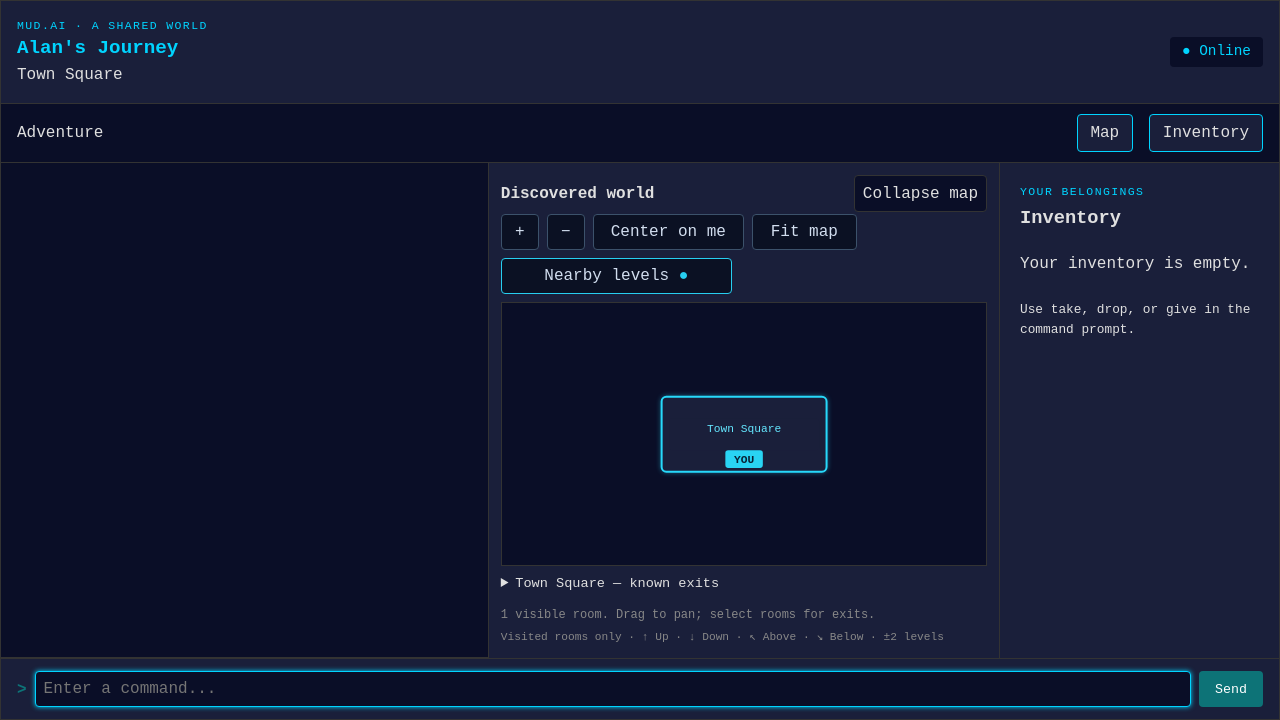
Test: Terminal › handles map commands locally, saves visibility, and ignores narration map data
Expected: the button "Collapse map" is shown, [854,175,987,212]
Expected: the element with test id "map-panel" does not show "Secret", [488,163,999,658]
In the field with test id "command-input": (613, 689) [35,671,1191,707], type "/map hide"
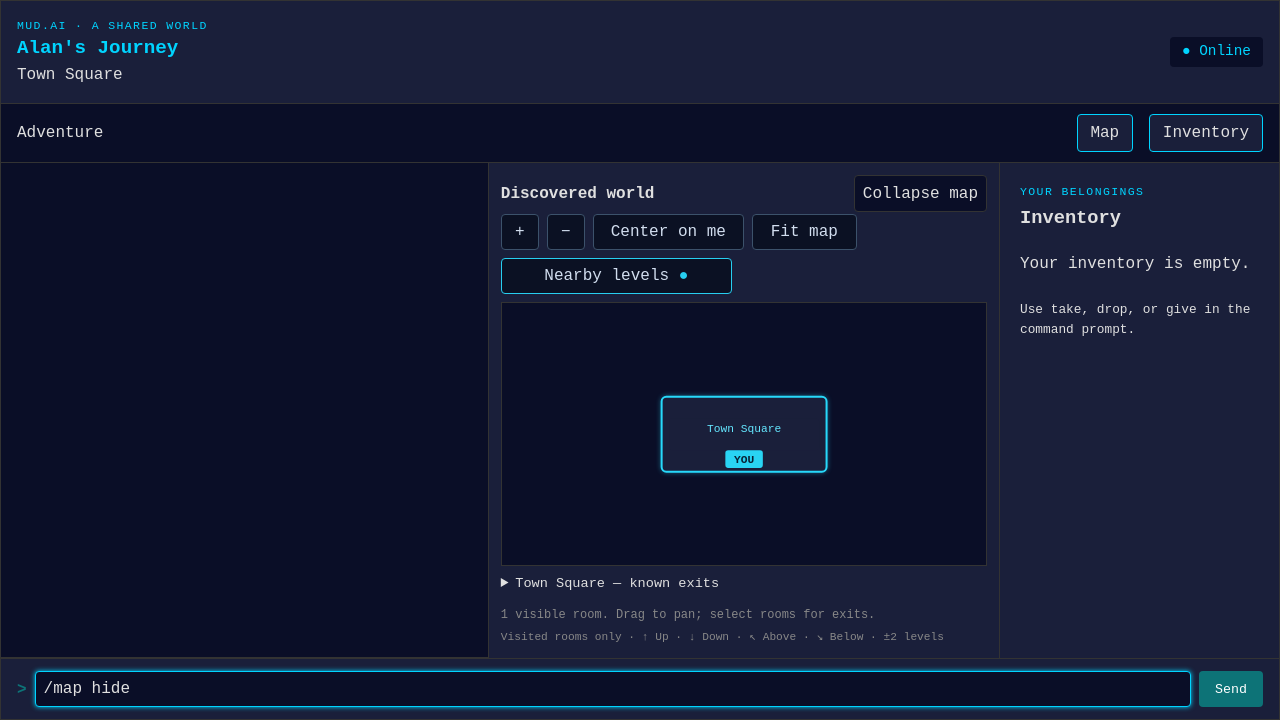
Submit the form with test id "command-input", box [1,658,1279,719]
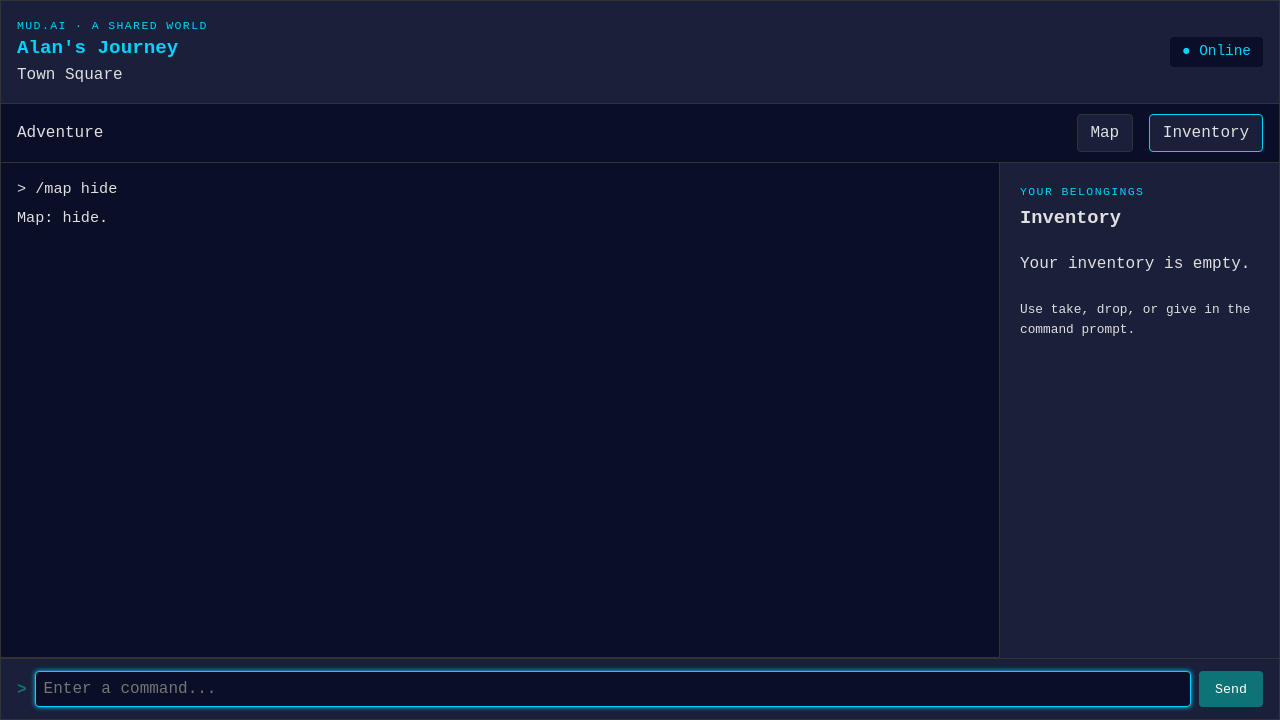
Expected: the element with test id "map-panel" is gone
In the field with test id "command-input": (613, 689) [35,671,1191,707], type "/map expand"
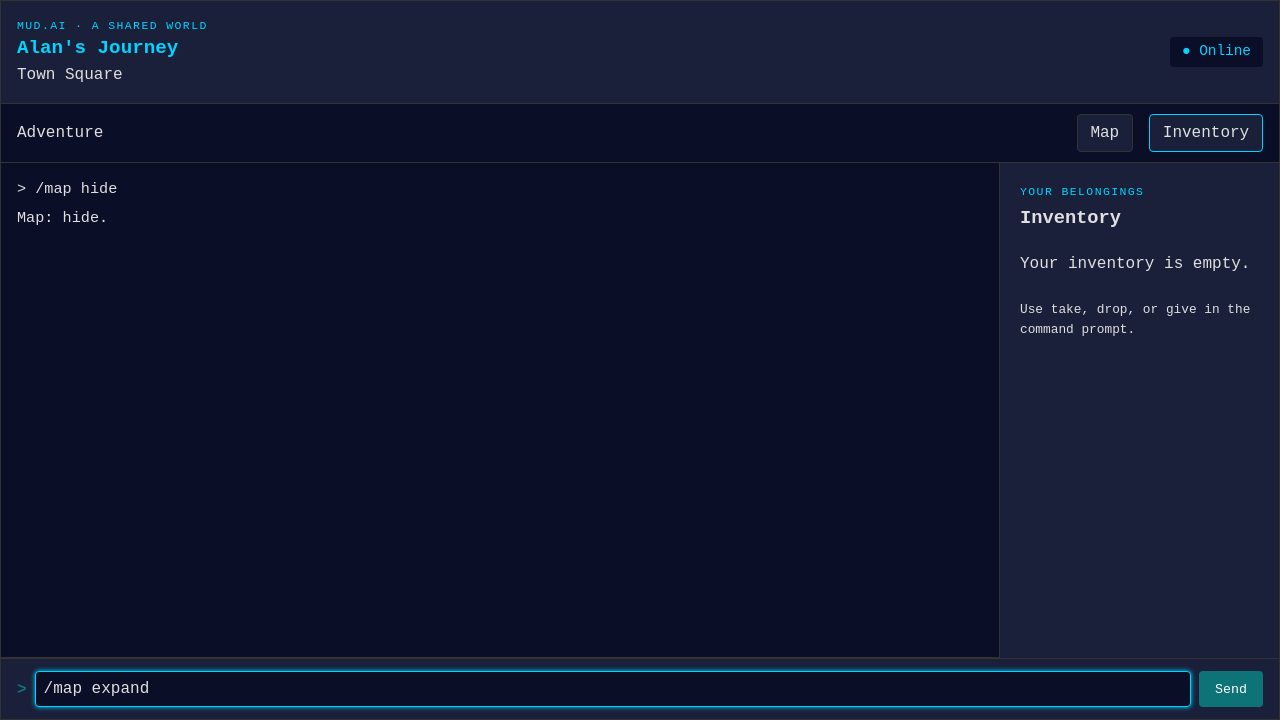
Submit the form with test id "command-input", box [1,658,1279,719]
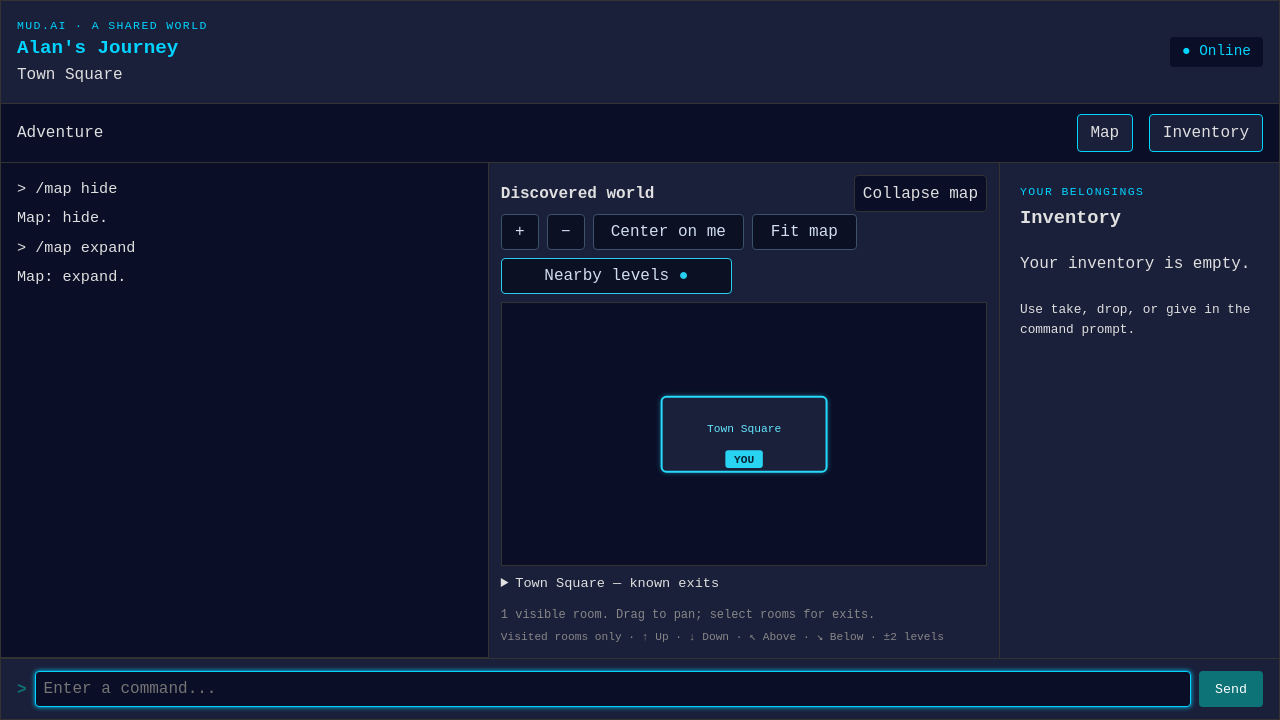
Expected: the button "Collapse map" is shown, [854,175,987,212]
In the field with test id "command-input": (613, 689) [35,671,1191,707], type "map collapse"
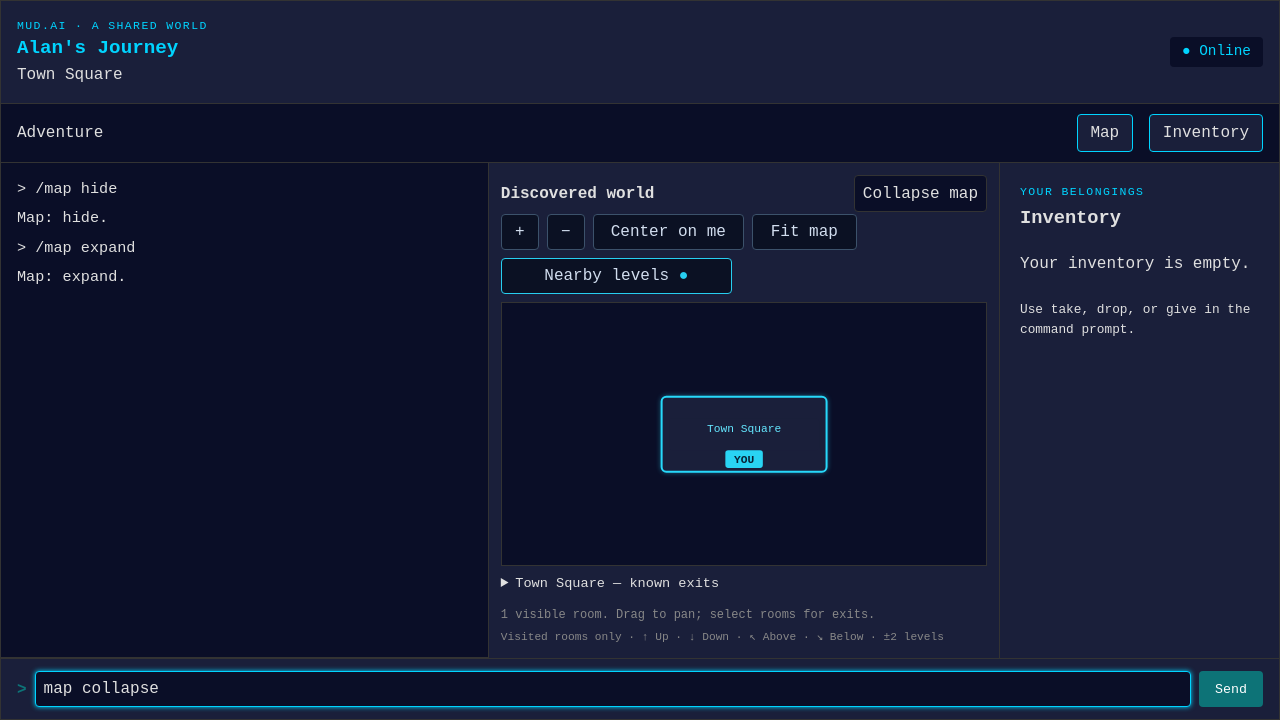
Submit the form with test id "command-input", box [1,658,1279,719]
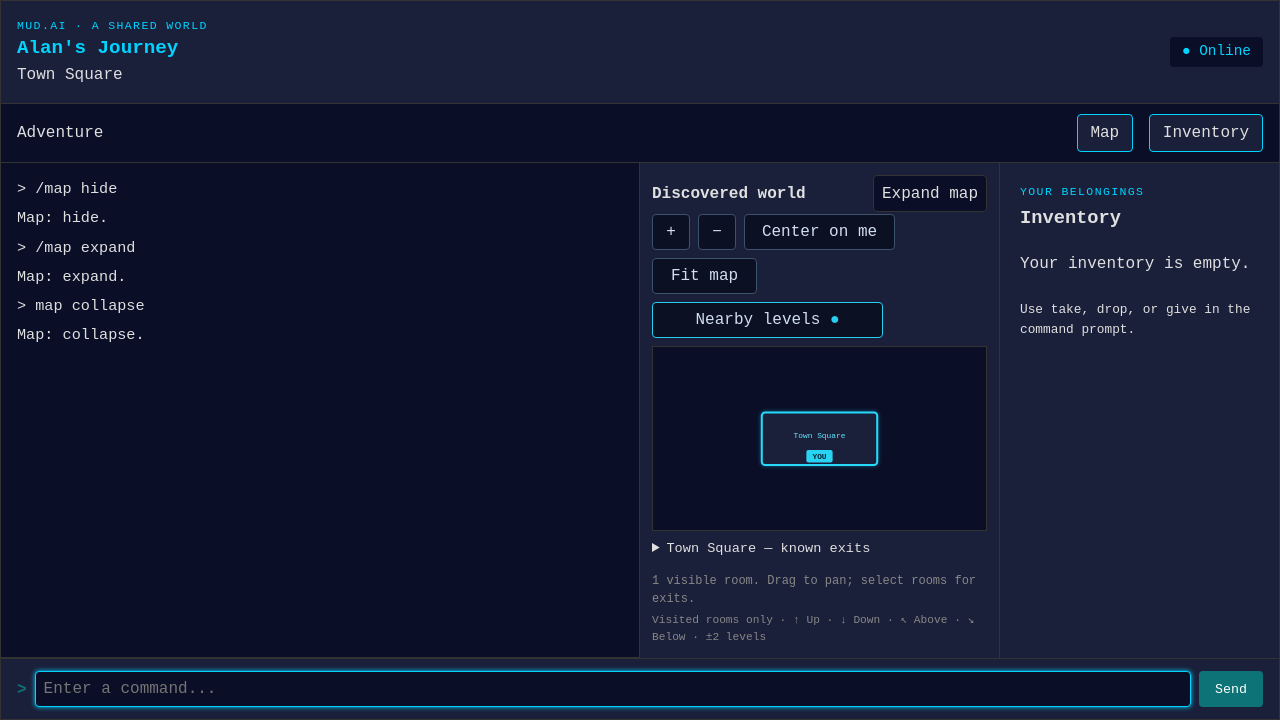
Expected: the button "Expand map" is shown, [873,175,987,212]
